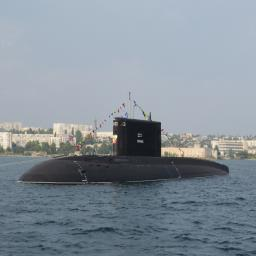submarine: (18, 120, 231, 182)
